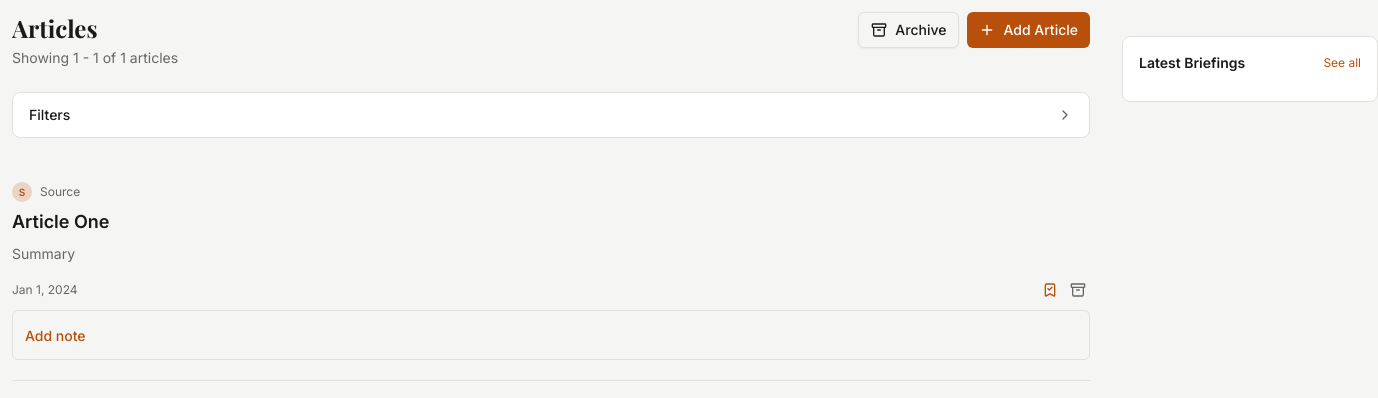
Test: ArticlesPage bookmark state › switches the icon after a toggle, off the refetched articles list
The image size is (1378, 398).
Expected: the icon with class "lucide-bookmark-check" is shown, [1042,282,1058,298]
Click the button with class "lucide-bookmark-check".
click(1050, 290)  # box [1038,278,1062,302]
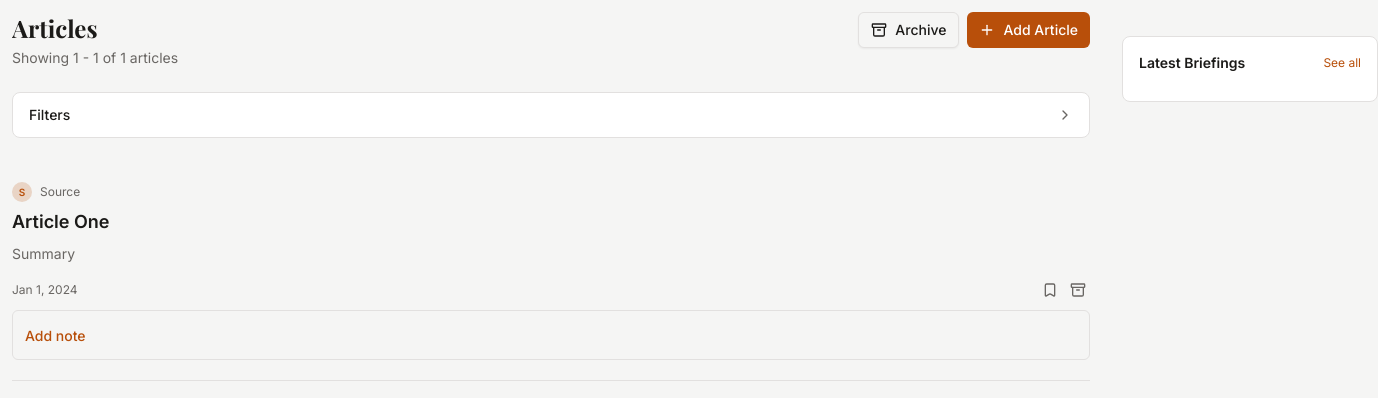
Result: the icon with class "lucide-bookmark-check" is gone
